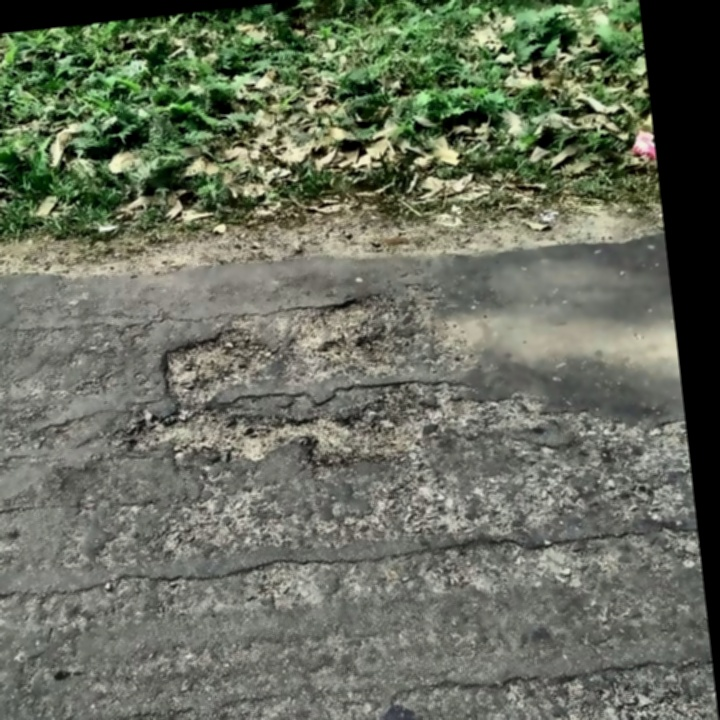pothole: (107, 284, 447, 496)
